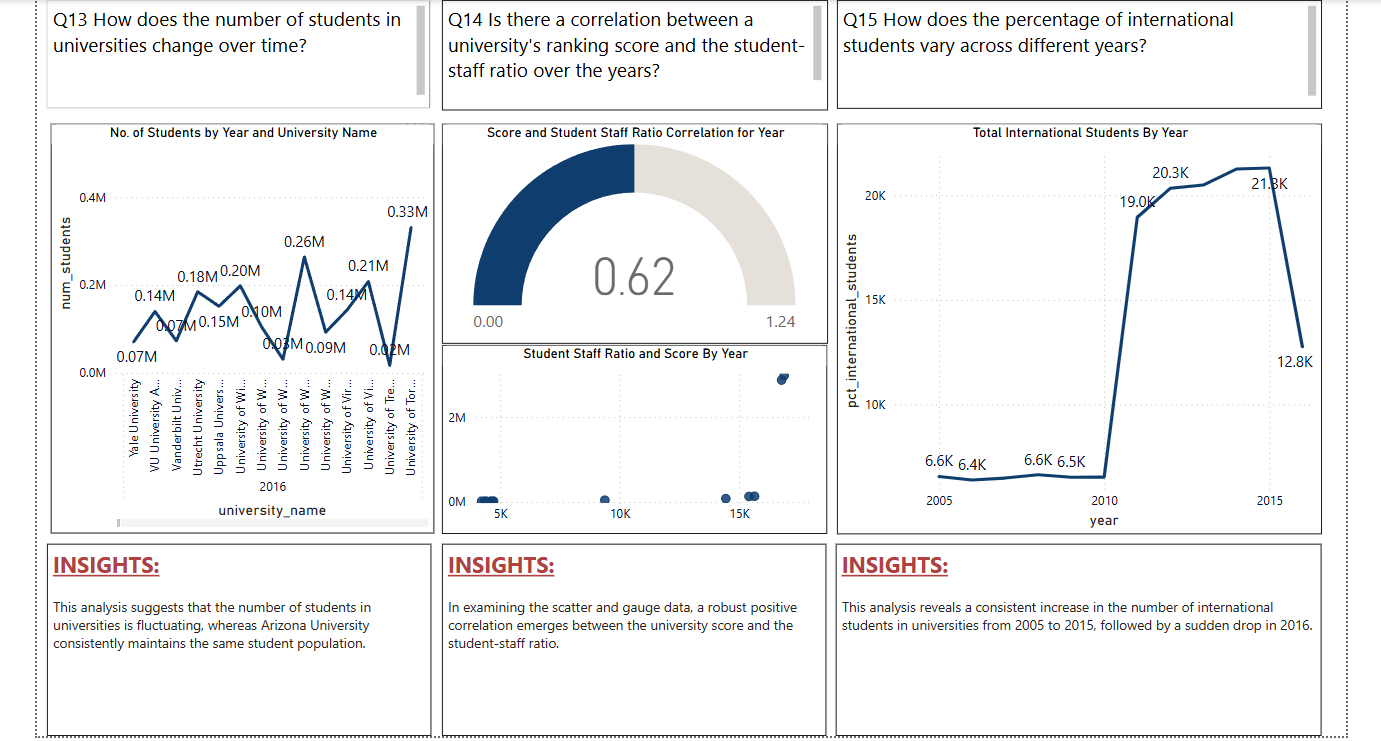

What the dashboard file says about the page in this screenshot:
{"tool":"powerbi","page":{"name":"Que 13,14,15","canvas":[1280,720],"ordinal":8},"visuals":[{"type":"textbox","box":[10.1,0,375.6,106.1],"z":0},{"type":"lineChart","title":" No. of Students by Year and University Name","fields":{"Category":["university_ranking_year.year","university.university_name"],"Y":["Sum(university_year.num_students)"]},"box":[13.5,121.3,375.6,400.8],"z":1000},{"type":"textbox","box":[10,532,376,188],"z":2000},{"type":"gauge","title":"Score and Student Staff Ratio Correlation for Year","fields":{"Y":["country.score and student_staff_ratio correlation for year"]},"box":[395.8,121.3,377.3,215.6],"z":3000},{"type":"textbox","box":[396,532,376,188],"z":4000},{"type":"textbox","box":[395.8,0,377.3,107.8],"z":5000},{"type":"lineChart","title":"Total International Students By Year","fields":{"Category":["university_ranking_year.year"],"Y":["Sum(university_year.pct_international_students)"]},"box":[782.2,120.9,474.7,401.8],"z":6000},{"type":"textbox","box":[782,532,475,188],"z":7000},{"type":"textbox","box":[782.2,0,474.7,106.7],"z":8000},{"type":"scatterChart","title":" Student Staff Ratio and Score By Year","fields":{"Category":["university_ranking_year.year"],"X":["Sum(university_year.student_staff_ratio)"],"Y":["Sum(university_ranking_year.score)"]},"box":[396,337,377,185],"z":9000}]}

Visuals, with their boxes on the page's 1280x720 design canvas (x1, y1, x2, y2). These are canvas units, not pixel positions in the 1381x741 screenshot, which may show the page scaled, cropped or inside an application window:
textbox: <region>10, 0, 386, 106</region>
" No. of Students by Year and University Name" lineChart: <region>14, 121, 389, 522</region>
textbox: <region>10, 532, 386, 720</region>
"Score and Student Staff Ratio Correlation for Year" gauge: <region>396, 121, 773, 337</region>
textbox: <region>396, 532, 772, 720</region>
textbox: <region>396, 0, 773, 108</region>
"Total International Students By Year" lineChart: <region>782, 121, 1257, 523</region>
textbox: <region>782, 532, 1257, 720</region>
textbox: <region>782, 0, 1257, 107</region>
" Student Staff Ratio and Score By Year" scatterChart: <region>396, 337, 773, 522</region>
